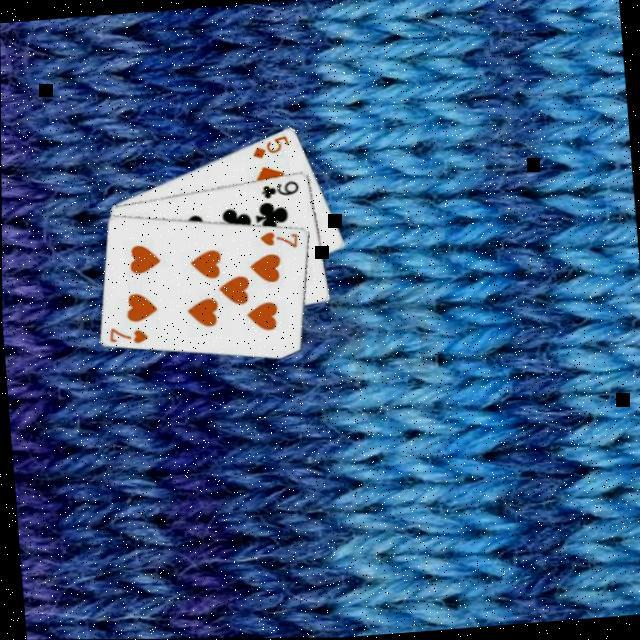5D: (247, 133, 291, 162)
7H: (255, 228, 300, 254), (104, 322, 149, 348)
9C: (256, 178, 300, 202)
